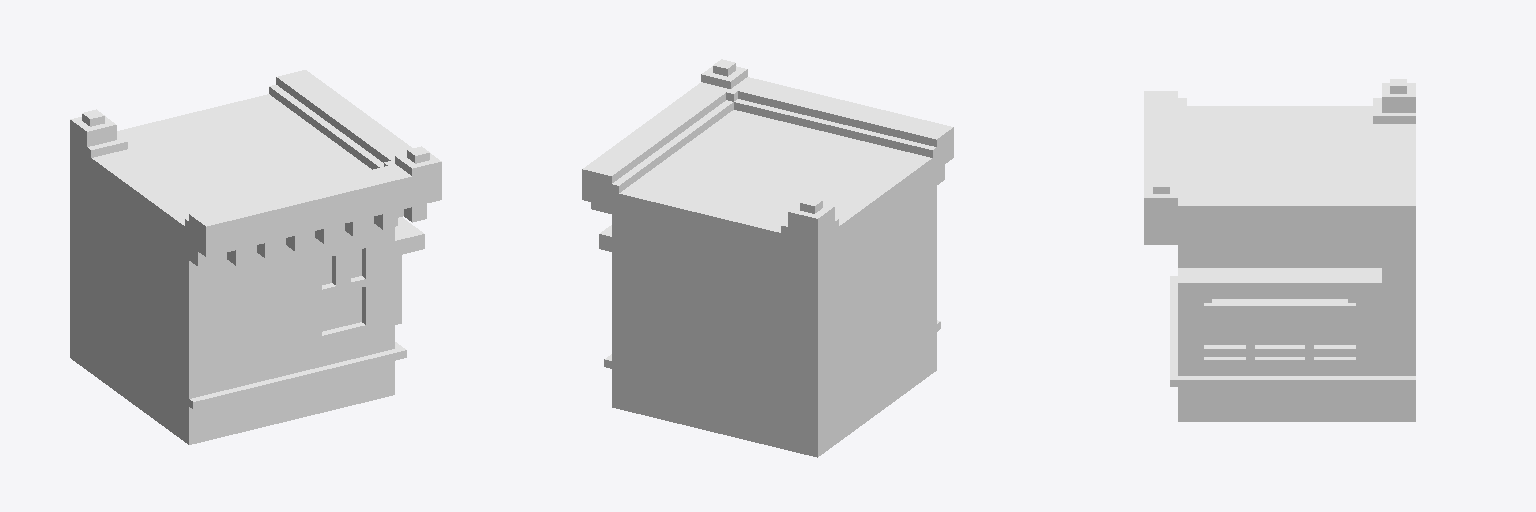
Rendered from tile_1_left_nb_corner.obj.
3 renders of one model, left to right at view 1: azimuth 30°, elevation 25°; view 2: azimuth 150°, elevation 25°; view 3: azimuth 270°, elevation 25°, orthographic.
Visible parts, largest first — view 1: object 1; view 2: object 1; view 3: object 1.
Part boxes in pixels (left/top/right/bottom): object 1: left=70, top=70, right=441, bottom=444; object 1: left=582, top=59, right=953, bottom=457; object 1: left=1144, top=79, right=1415, bottom=421.
Bounding box in the file's own units: 3.2 × 3.2 × 3.2.